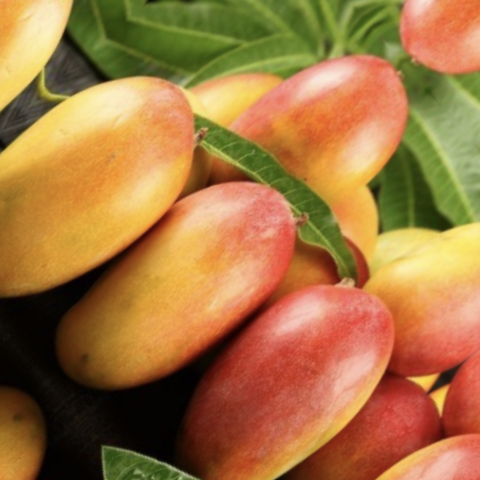mango: (23, 146, 334, 446), (113, 222, 458, 480), (0, 16, 259, 350), (185, 2, 458, 271)
